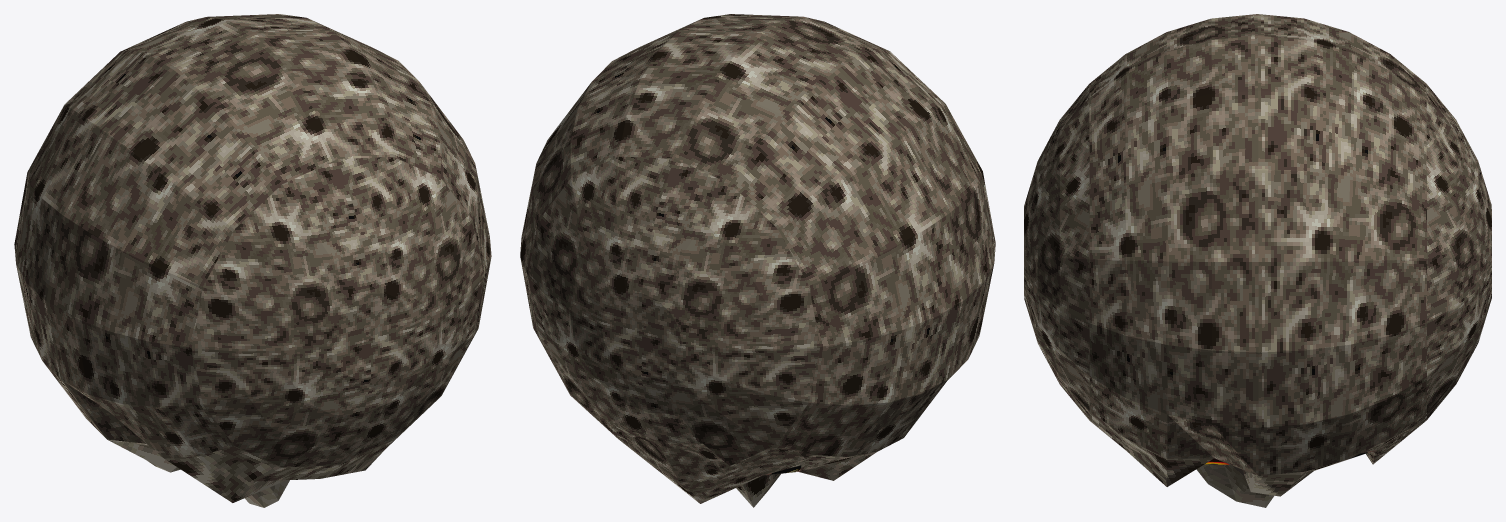
The model's file is majoras_moon.glb.
The picture shows the model from 3 angles, left to right: view 1: azimuth 30°, elevation 25°; view 2: azimuth 150°, elevation 25°; view 3: azimuth 270°, elevation 25°; orthographic projection.
Parts seen in each view (by area): view 1: moon.001; view 2: moon.001; view 3: moon.001.
Part boxes in pixels (x1,y1,x2,y2): moon.001: [14, 14, 491, 507]; moon.001: [520, 14, 995, 507]; moon.001: [1024, 14, 1491, 507].
Bounding box in the file's own units: 1.6 × 1.75 × 1.57.
Materials: 6 (6 with a texture image).
